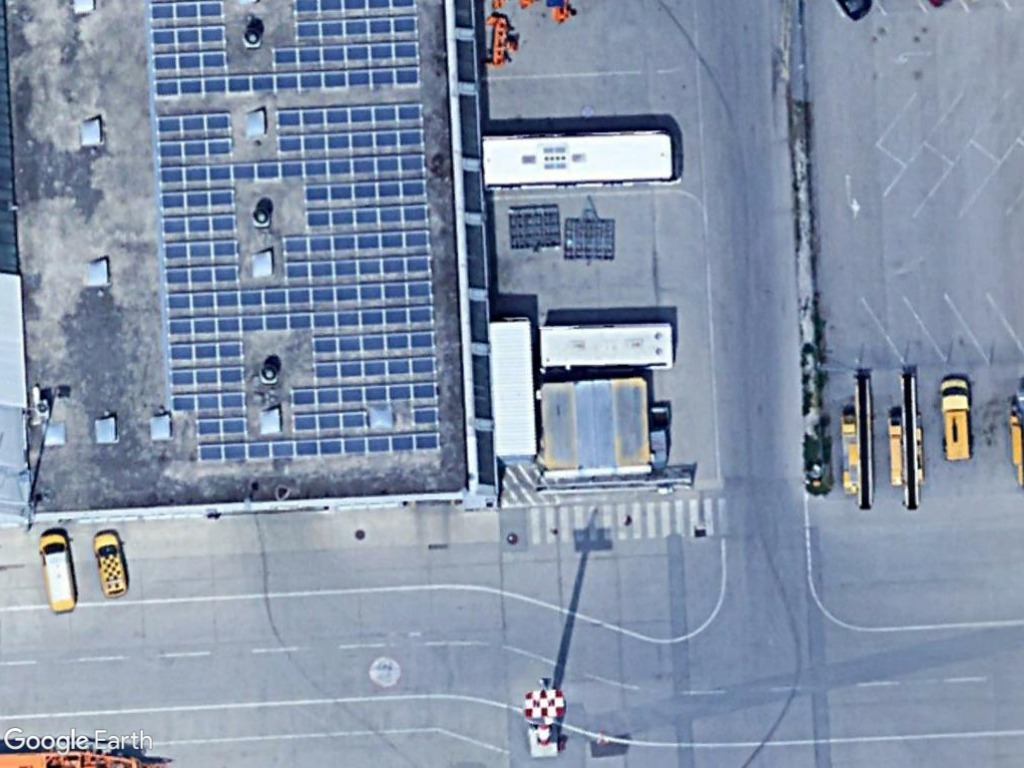bus: (479, 126, 688, 193)
van: (35, 527, 84, 620), (935, 371, 979, 471), (87, 524, 134, 601)
